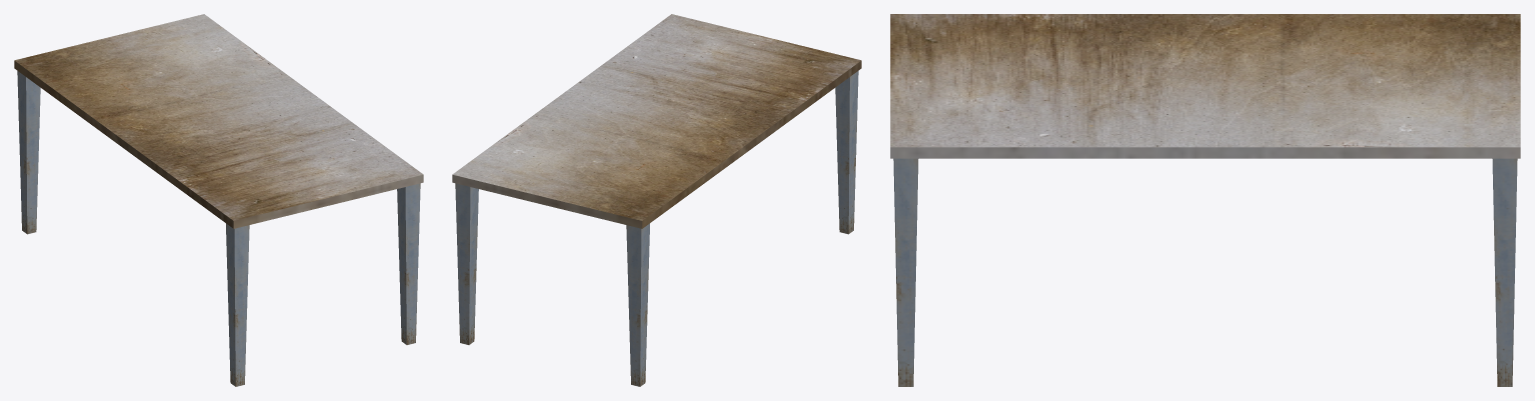
Rendered from Table.fbx.
The picture shows the model from 3 angles, left to right: view 1: azimuth 30°, elevation 25°; view 2: azimuth 150°, elevation 25°; view 3: azimuth 270°, elevation 25°; orthographic projection. The views are drawn at different scales.
Parts seen in each view (by area): view 1: Cube.004; view 2: Cube.004; view 3: Cube.004.
Part boxes in pixels (<box>): Cube.004: <box>14,14,423,386</box>; Cube.004: <box>452,14,861,386</box>; Cube.004: <box>890,14,1520,386</box>.
Bounding box in the file's own units: 200 × 170 × 400.
Materials: 1 (1 with a texture image).
